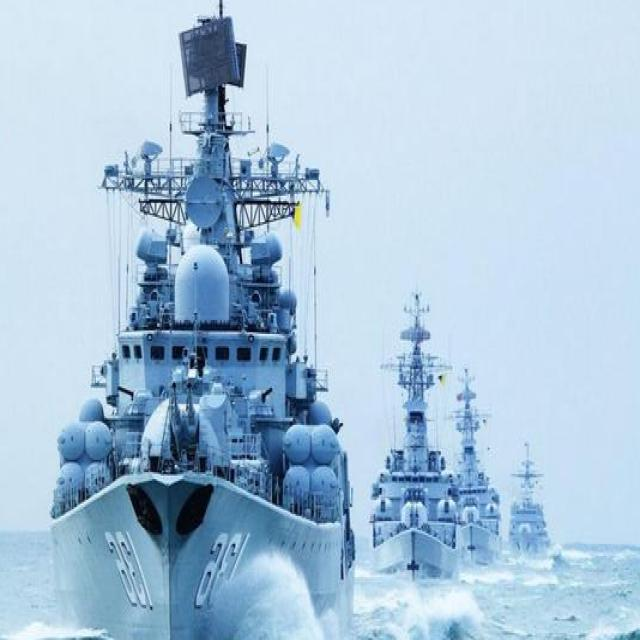navalvessels: (39, 0, 358, 640), (370, 302, 460, 594), (446, 370, 508, 559), (500, 450, 550, 568)
